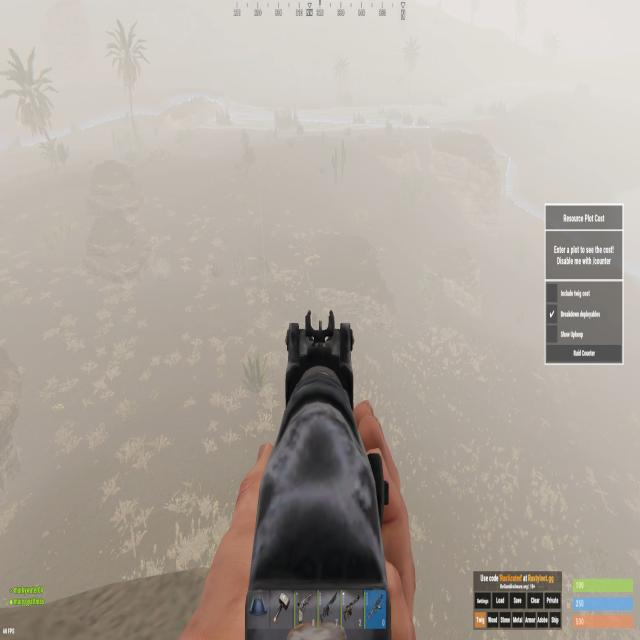Player: (312, 311, 318, 331)
